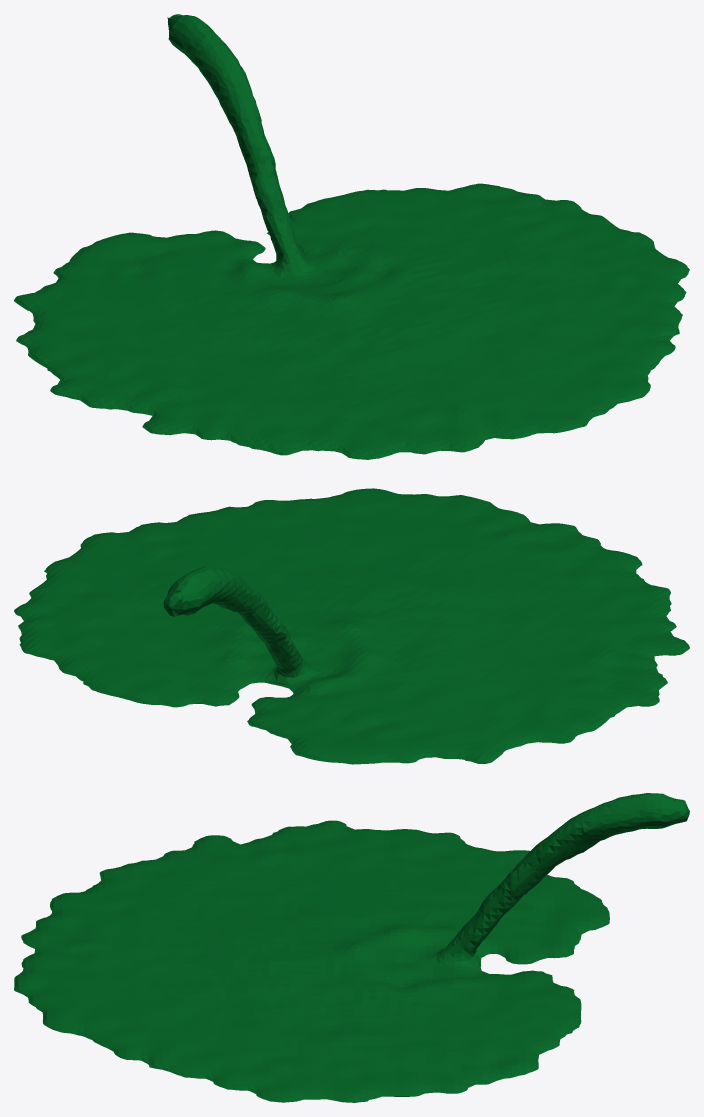
The model's file is fluid_32.fbx.
3 renders of one model, top to bottom at view 1: azimuth 30°, elevation 25°; view 2: azimuth 150°, elevation 25°; view 3: azimuth 270°, elevation 25°, orthographic. The views are drawn at different scales.
Parts seen in each view (by area): view 1: Cube; view 2: Cube; view 3: Cube.
Part boxes in pixels (left/top/right/bottom): Cube: left=14, top=14, right=689, bottom=459; Cube: left=14, top=488, right=689, bottom=764; Cube: left=14, top=793, right=689, bottom=1102.
Bounding box in the file's own units: 614 × 176 × 622.
